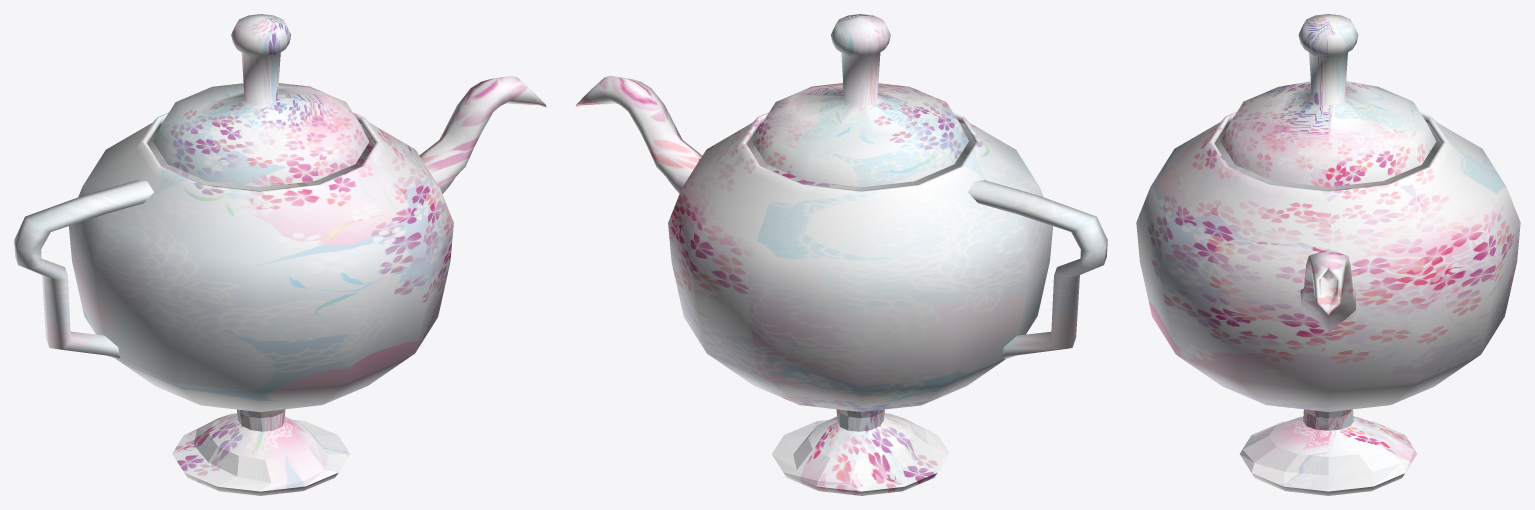
File: texutred teapot 4.FBX
3 renders of one model, left to right at view 1: azimuth 30°, elevation 25°; view 2: azimuth 150°, elevation 25°; view 3: azimuth 270°, elevation 25°, orthographic.
Parts seen in each view (by area): view 1: Teapot005; view 2: Teapot005; view 3: Teapot005.
Boxes of the visible parts, x1,y1,x2,y2 form: Teapot005: (14,14,546,495); Teapot005: (575,14,1107,495); Teapot005: (1136,14,1520,495).
Bounding box in the file's own units: 55.28 × 44.21 × 34.71.
1 material, 1 textured.
